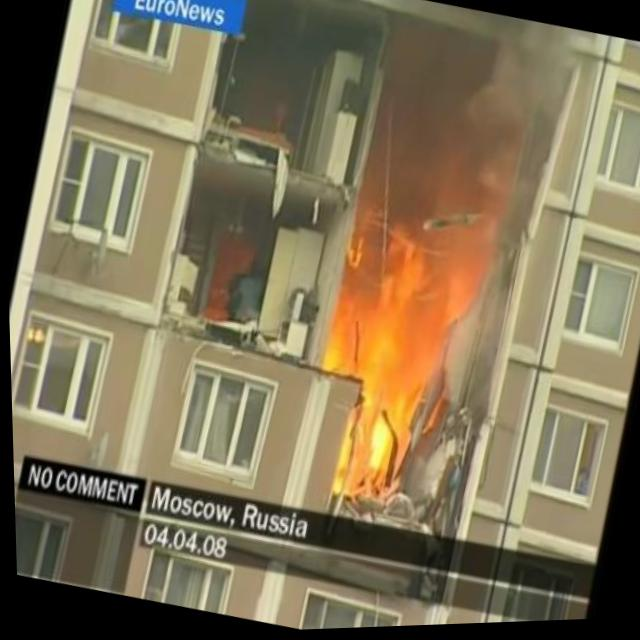fire: (328, 322, 431, 504), (314, 326, 358, 385)
